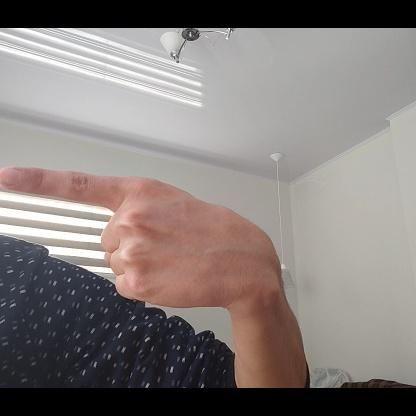G: (0, 166, 271, 305)
